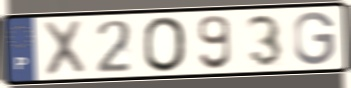2: (94, 18, 135, 76)
3: (244, 13, 286, 68)
9: (196, 13, 233, 72)
G: (292, 10, 338, 67)
O: (141, 14, 190, 74)
X: (40, 17, 89, 78)
